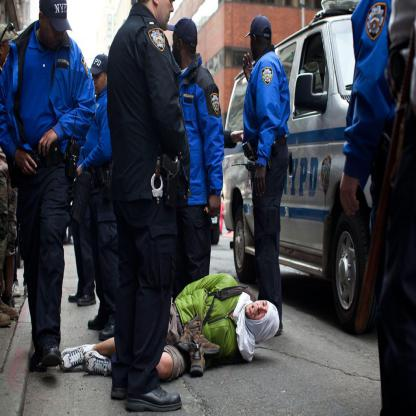face: (44, 16, 64, 50), (159, 1, 175, 32), (246, 301, 269, 320), (250, 33, 263, 60), (173, 33, 183, 66), (93, 72, 106, 95)
